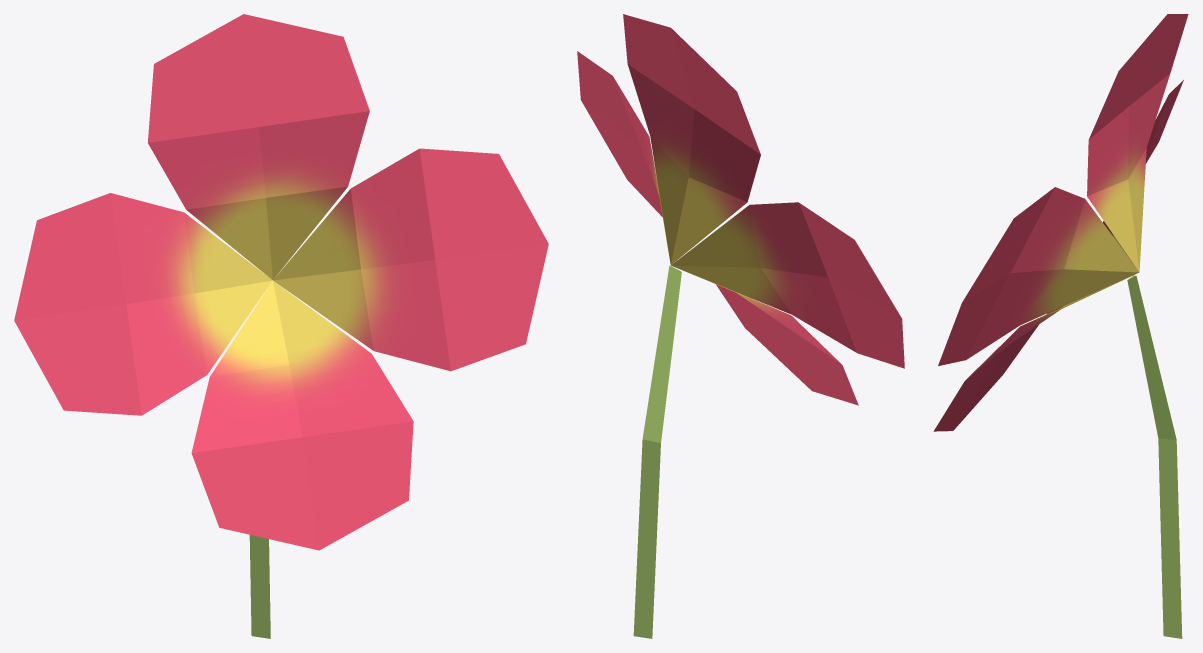
Rendered from Flower_c_OneS_03.fbx.
The picture shows the model from 3 angles, left to right: view 1: azimuth 30°, elevation 25°; view 2: azimuth 150°, elevation 25°; view 3: azimuth 270°, elevation 25°; orthographic projection. The views are drawn at different scales.
Visible parts, largest first — view 1: Flower_c_OneS_03; view 2: Flower_c_OneS_03; view 3: Flower_c_OneS_03.
Part boxes in pixels (bbox=[...]): Flower_c_OneS_03: bbox=[14, 14, 548, 638]; Flower_c_OneS_03: bbox=[577, 14, 904, 638]; Flower_c_OneS_03: bbox=[933, 14, 1188, 638].
Bounding box in the file's own units: 29.61 × 41.13 × 15.58.
